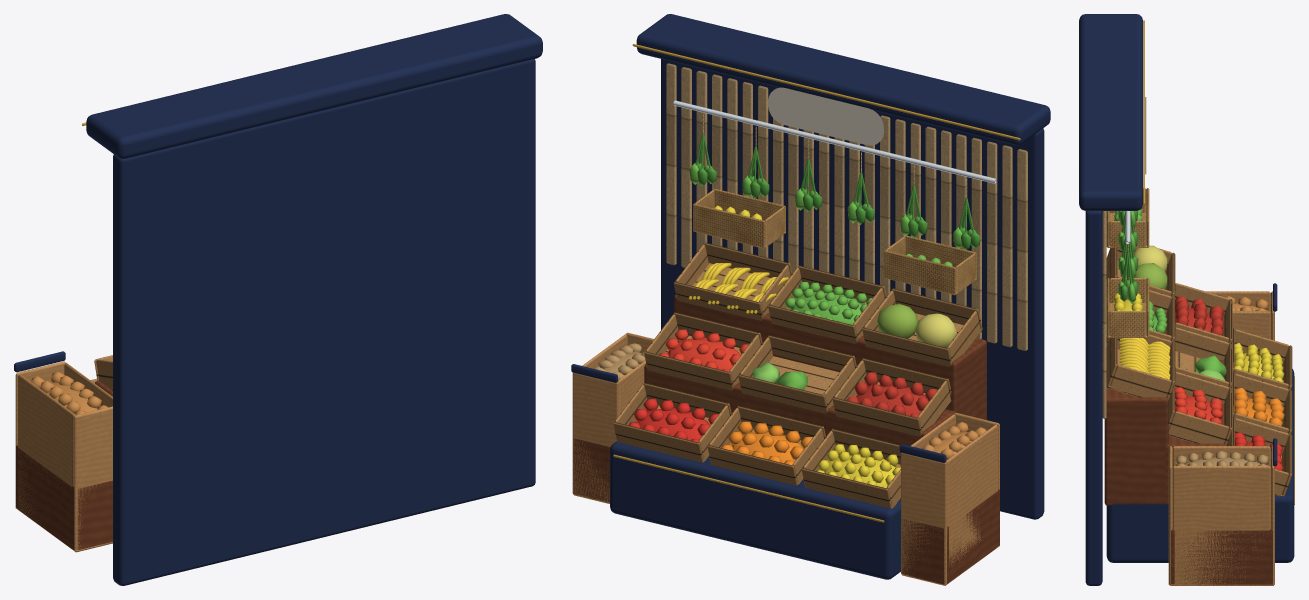
The model's file is produce_T3.fbx.
The picture shows the model from 3 angles, left to right: view 1: azimuth 30°, elevation 25°; view 2: azimuth 150°, elevation 25°; view 3: azimuth 270°, elevation 25°; orthographic projection. The views are drawn at different scales.
Parts seen in each view (by area): view 1: Body; view 2: Body, Anim Fill 3, Anim Fill 2, Anim Fill 0; view 3: Body, Anim Fill 3, Anim Fill 2, Anim Fill 0.
Boxes of the visible parts, left/top/right/bottom form: Body: left=14, top=14, right=542, bottom=585; Body: left=571, top=14, right=1050, bottom=585; Anim Fill 3: left=817, top=303, right=956, bottom=488; Anim Fill 2: left=721, top=282, right=872, bottom=465; Anim Fill 0: left=628, top=329, right=748, bottom=442; Body: left=1079, top=14, right=1294, bottom=585; Anim Fill 3: left=1132, top=245, right=1284, bottom=382; Anim Fill 2: left=1149, top=301, right=1284, bottom=426; Anim Fill 0: left=1175, top=387, right=1283, bottom=470.
Bounding box in the file's own units: 2.03 × 2.05 × 1.01.
